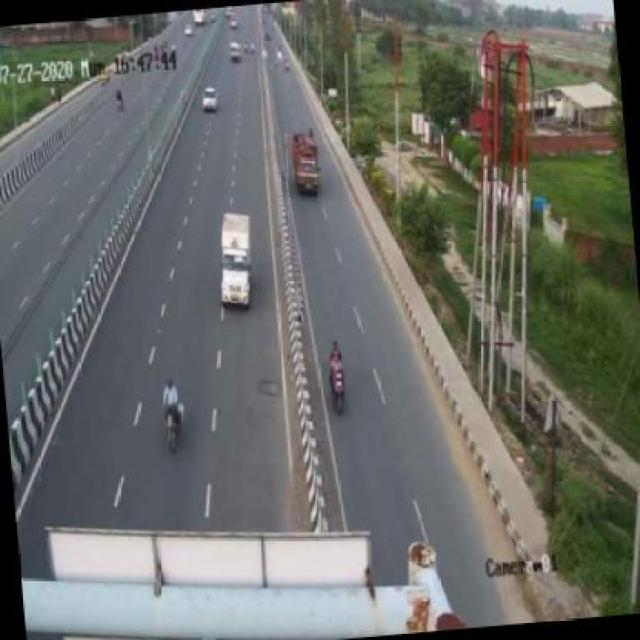car: (208, 208, 260, 314), (202, 86, 223, 114)
